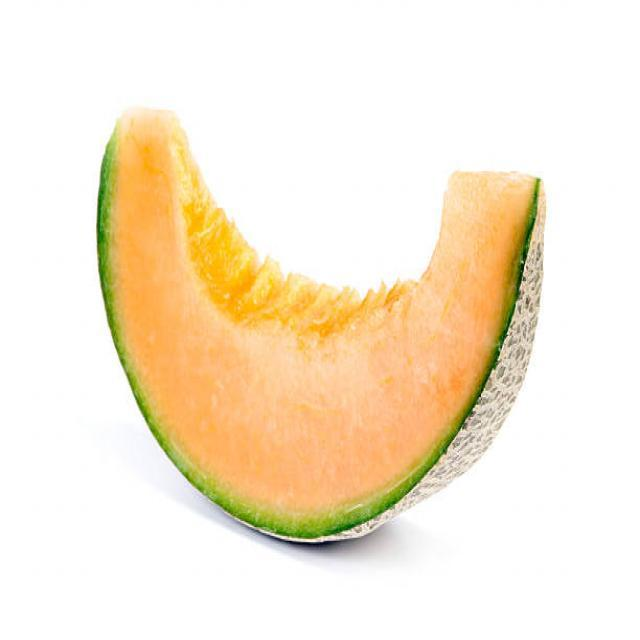Hami Melon: (102, 105, 544, 544)
